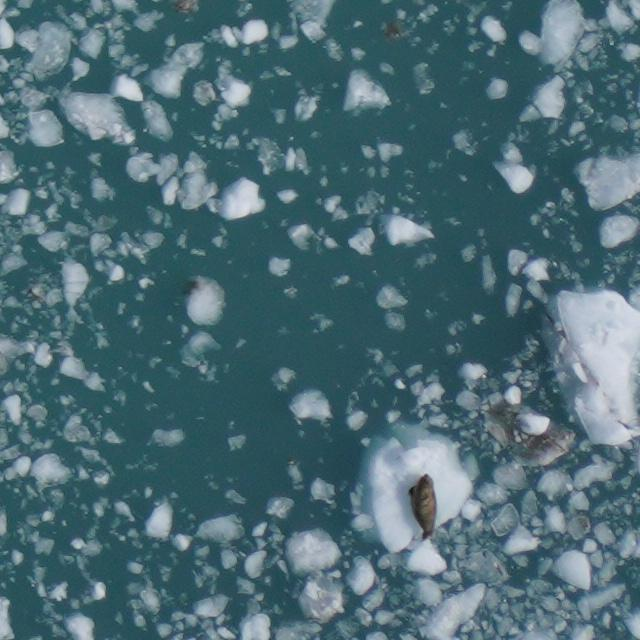seal: (407, 472, 435, 540)
